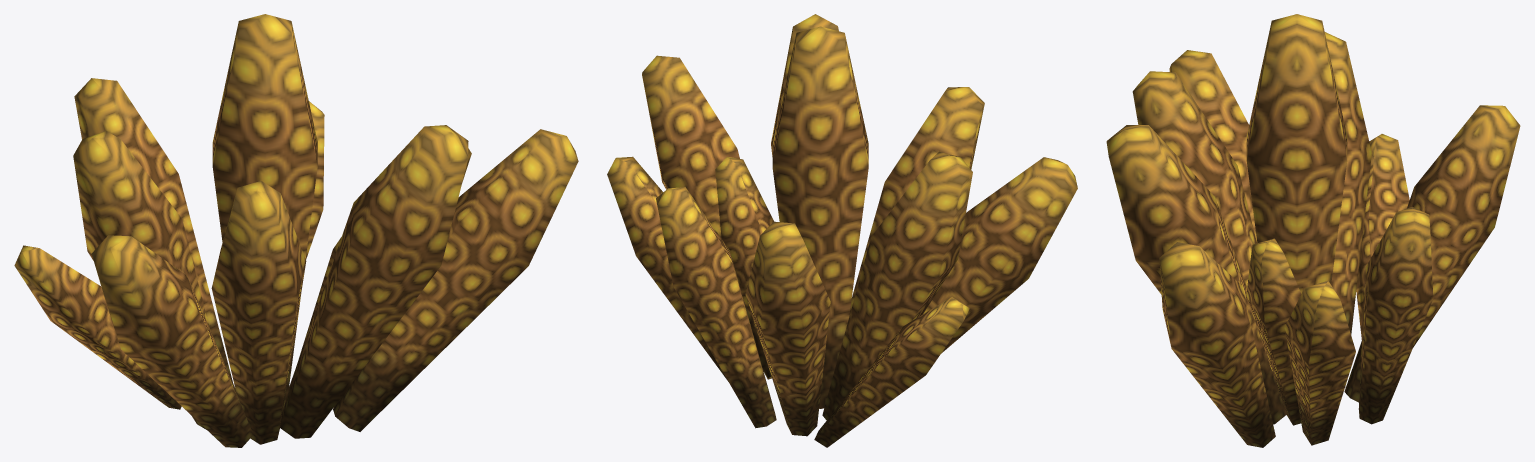
Rendered from Coral_05c.FBX.
3 views of the same model, side by side, from view 1: azimuth 30°, elevation 25°; view 2: azimuth 150°, elevation 25°; view 3: azimuth 270°, elevation 25° (orthographic). The views are drawn at different scales.
Visible parts, largest first — view 1: Coral_05c; view 2: Coral_05c; view 3: Coral_05c.
Boxes of the visible parts, x1,y1,x2,y2 form: Coral_05c: [14, 14, 578, 447]; Coral_05c: [607, 14, 1077, 447]; Coral_05c: [1106, 14, 1520, 447].
Bounding box in the file's own units: 19.36 × 16.21 × 15.21.
